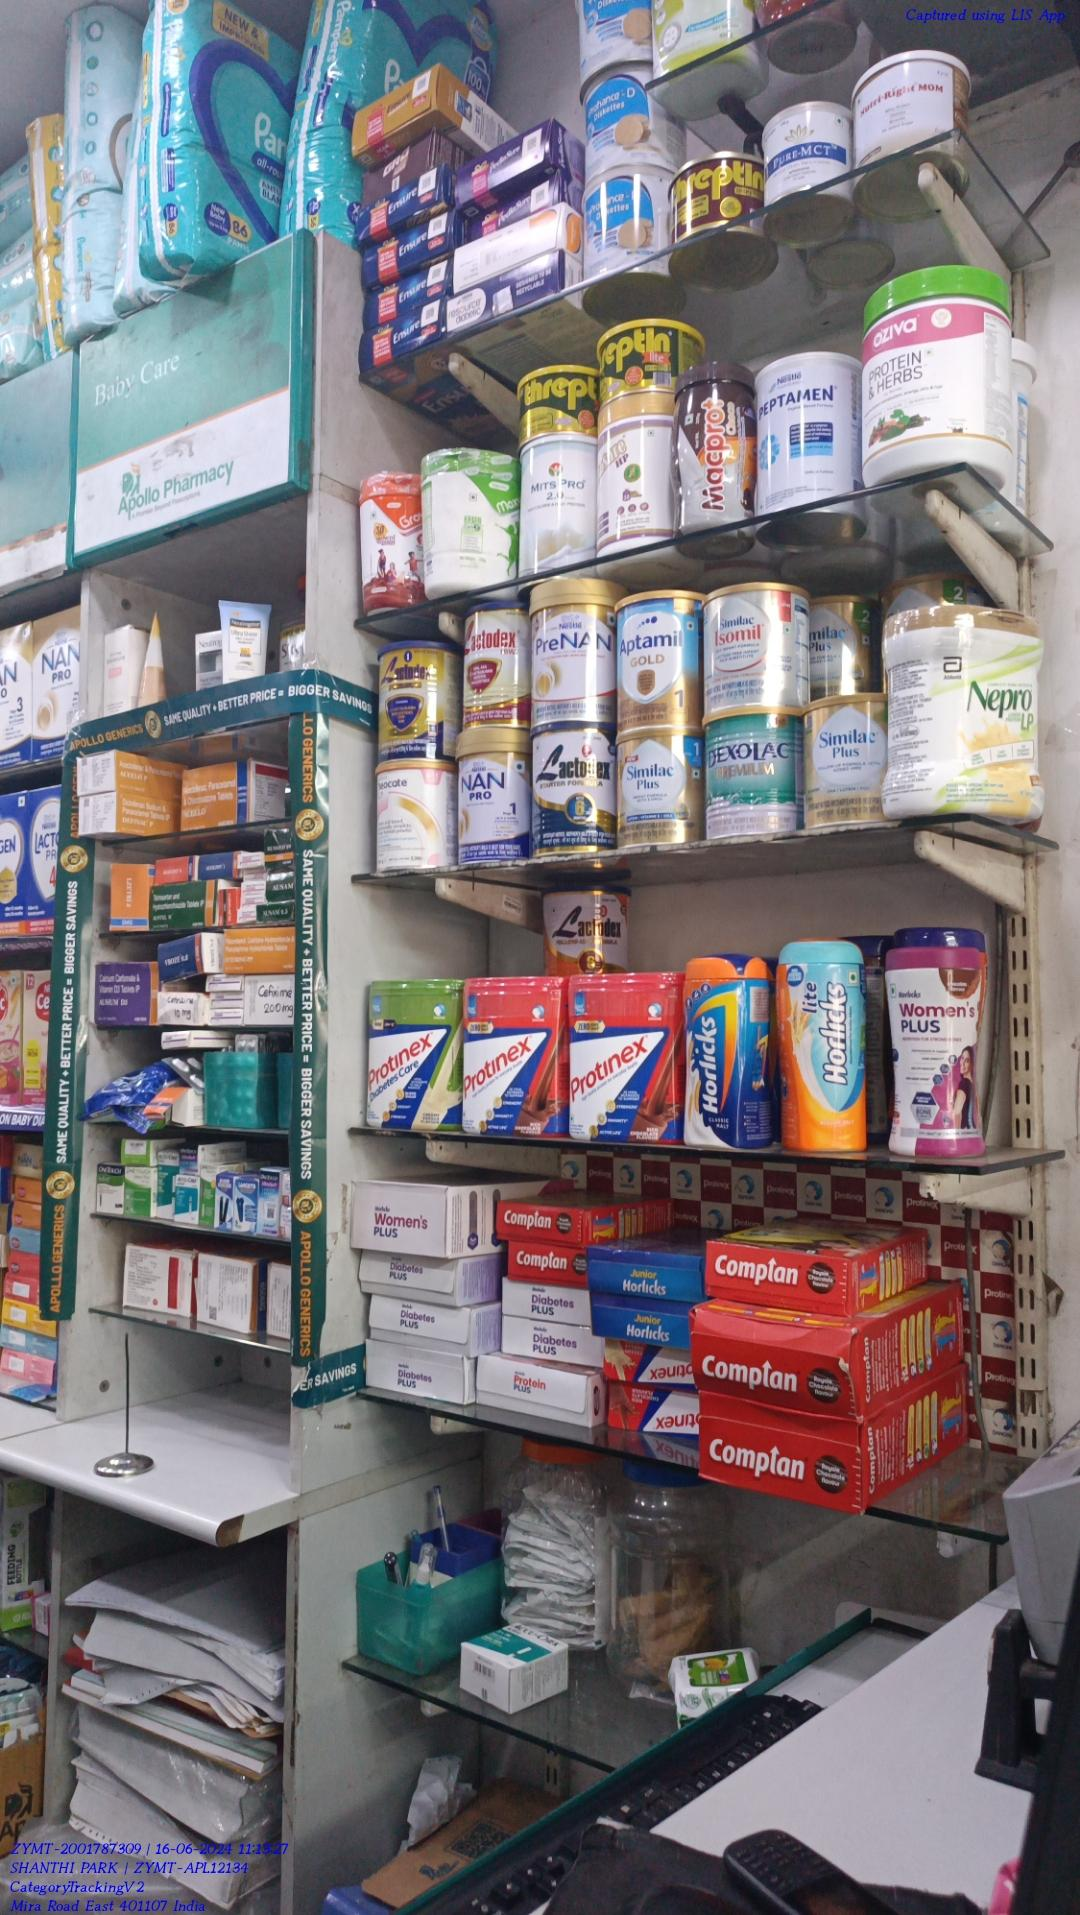HORLICKS_LITE_REGULAR_MALT_500_GM_JAR: (776, 947, 868, 1152)
HORLICK_CLASSIC_MALT_500_G_JAR: (681, 955, 760, 1148)
PROTINEX_CHOCOLATE_400_G_JAR: (568, 972, 675, 1139), (463, 977, 562, 1138)
